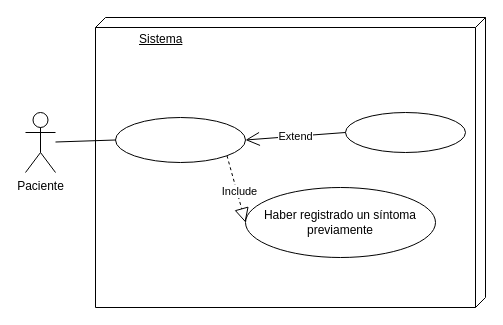
The diagram is 503 pixels wide and 325 high, and some of its shapes have lost their labels. The shapes that lost their labels are listed below. From the top down, each one's centre as x and y in pixels, then its label:
At (180,139): "Visualizar síntomas registrados".
At (405,132): "Mostrar registros".
